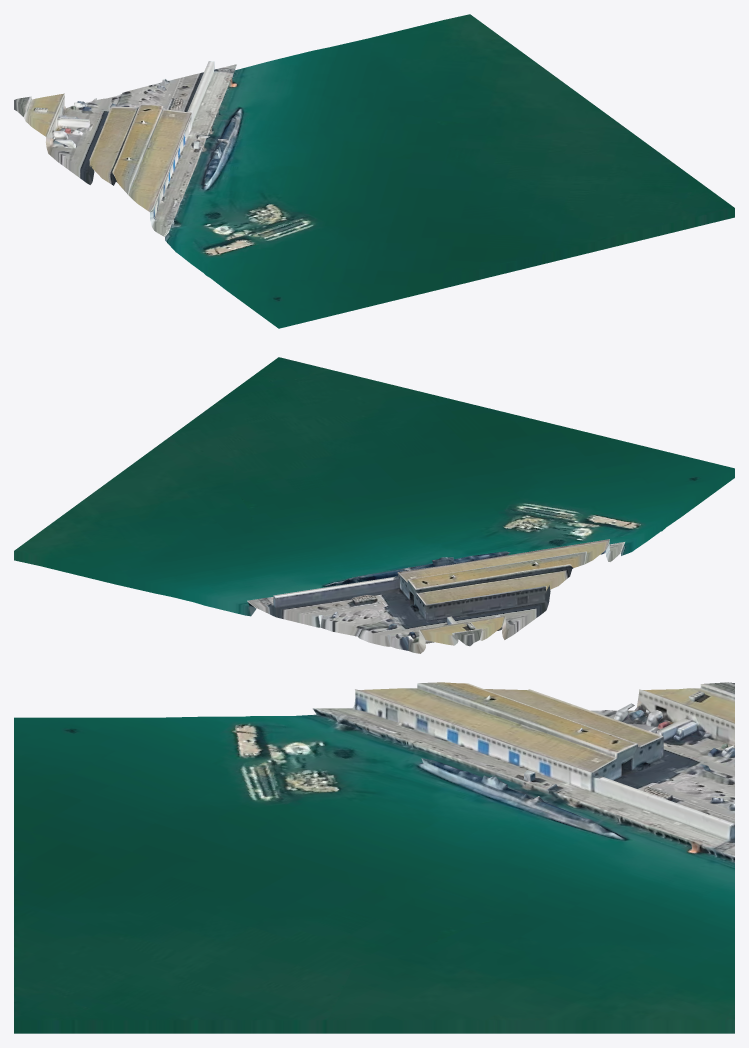
Rendered from z17-20965-50645-h0-yup-uvflip-v3-world.glb.
The picture shows the model from 3 angles, top to bottom: view 1: azimuth 30°, elevation 25°; view 2: azimuth 150°, elevation 25°; view 3: azimuth 270°, elevation 25°; orthographic projection. The views are drawn at different scales.
Size of the model in its own units: 241 by 19.2 by 243.
Materials: 1 (1 with a texture image).
